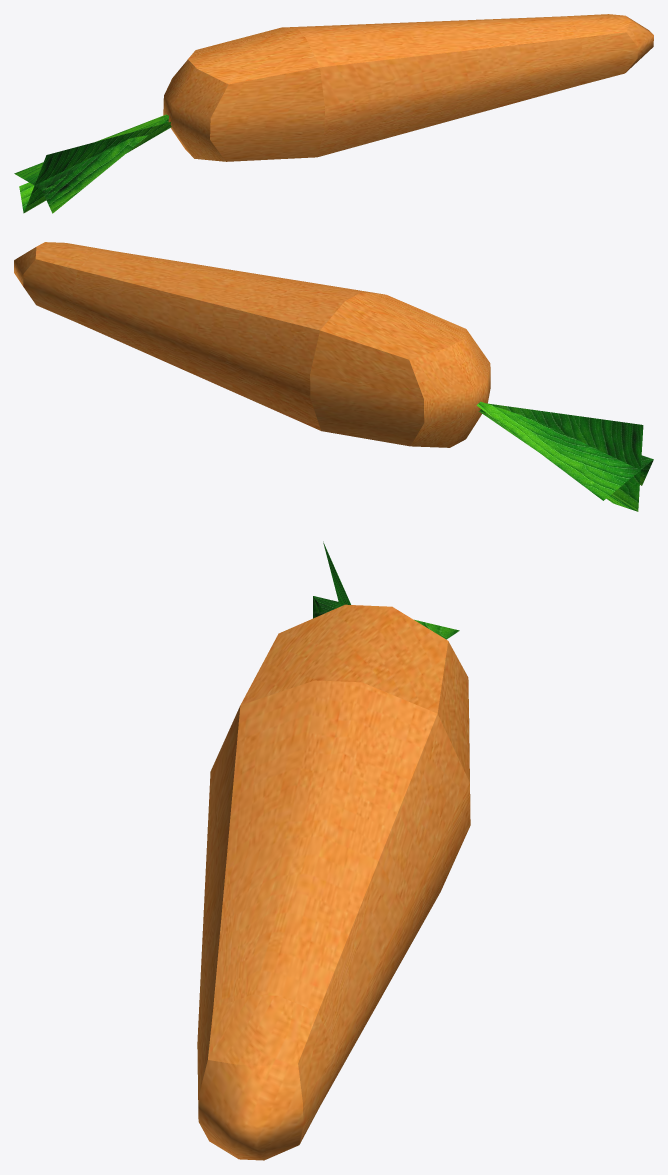
The model's file is Zanahoria.fbx.
3 views of the same model, one above another, from view 1: azimuth 30°, elevation 25°; view 2: azimuth 150°, elevation 25°; view 3: azimuth 270°, elevation 25° (orthographic). The views are drawn at different scales.
Visible parts, largest first — view 1: Zanahoria; view 2: Zanahoria; view 3: Zanahoria.
Part boxes in pixels (<box>): Zanahoria: <box>14,14,653,213</box>; Zanahoria: <box>14,242,653,511</box>; Zanahoria: <box>197,541,470,1160</box>.
Size of the model in its own units: 476 by 93.54 by 94.66.
Materials: 2 (2 with a texture image).
